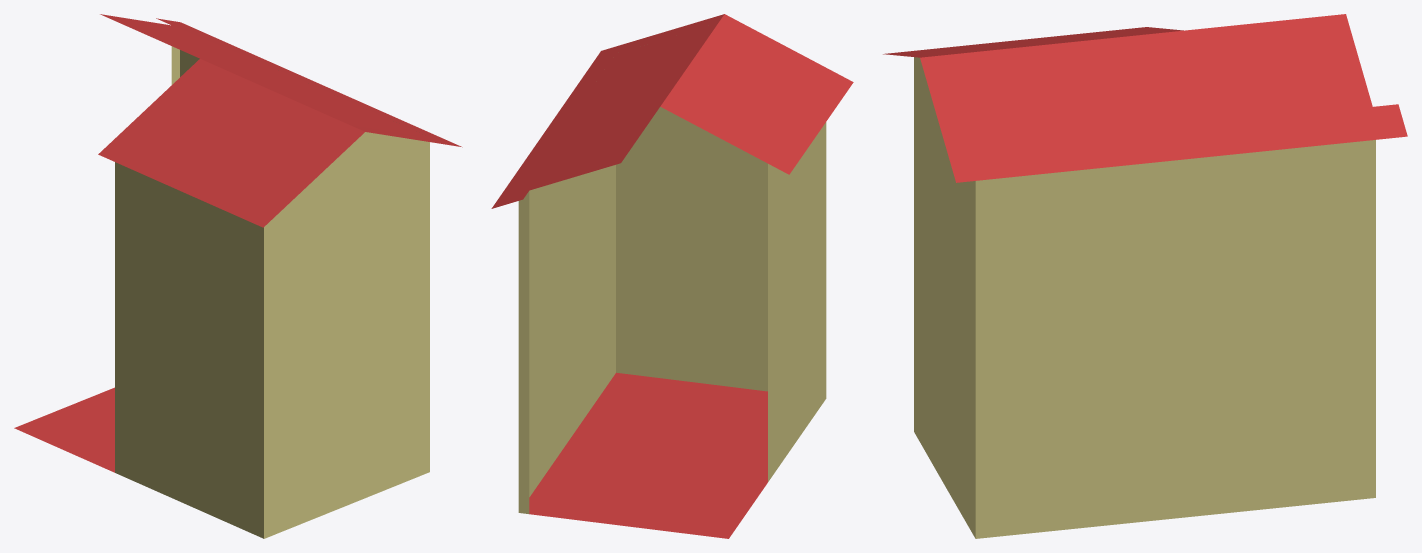
3 views of the same model, side by side, from view 1: azimuth 30°, elevation 25°; view 2: azimuth 150°, elevation 25°; view 3: azimuth 270°, elevation 25° (orthographic). The views are drawn at different scales.
Size of the model in its own units: 7.24 by 9.95 by 9.02.
